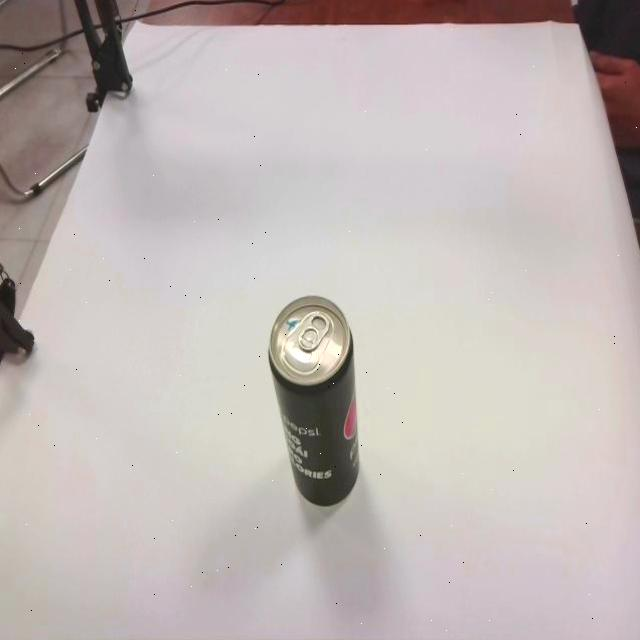debris: (267, 294, 360, 507)
